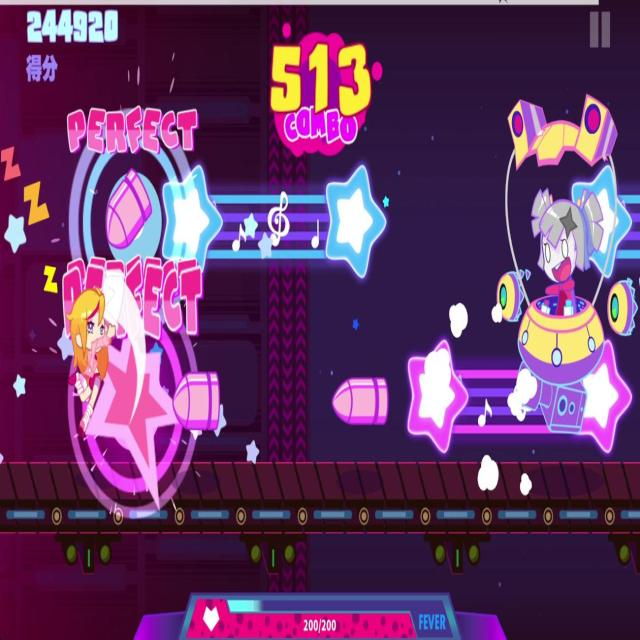hold: (165, 156, 387, 284), (406, 334, 631, 448)
jian: (102, 167, 151, 248), (173, 367, 224, 434), (330, 376, 392, 424)
qiangboss: (492, 78, 623, 434)
